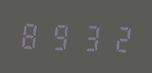eight: (18, 18, 45, 51)
nine: (46, 18, 73, 52)
three: (74, 19, 101, 53)
two: (102, 20, 129, 54)
